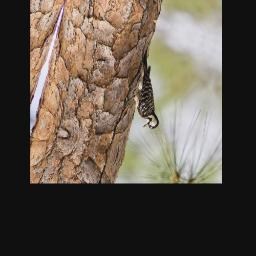Woodpecker: (119, 43, 178, 133)
